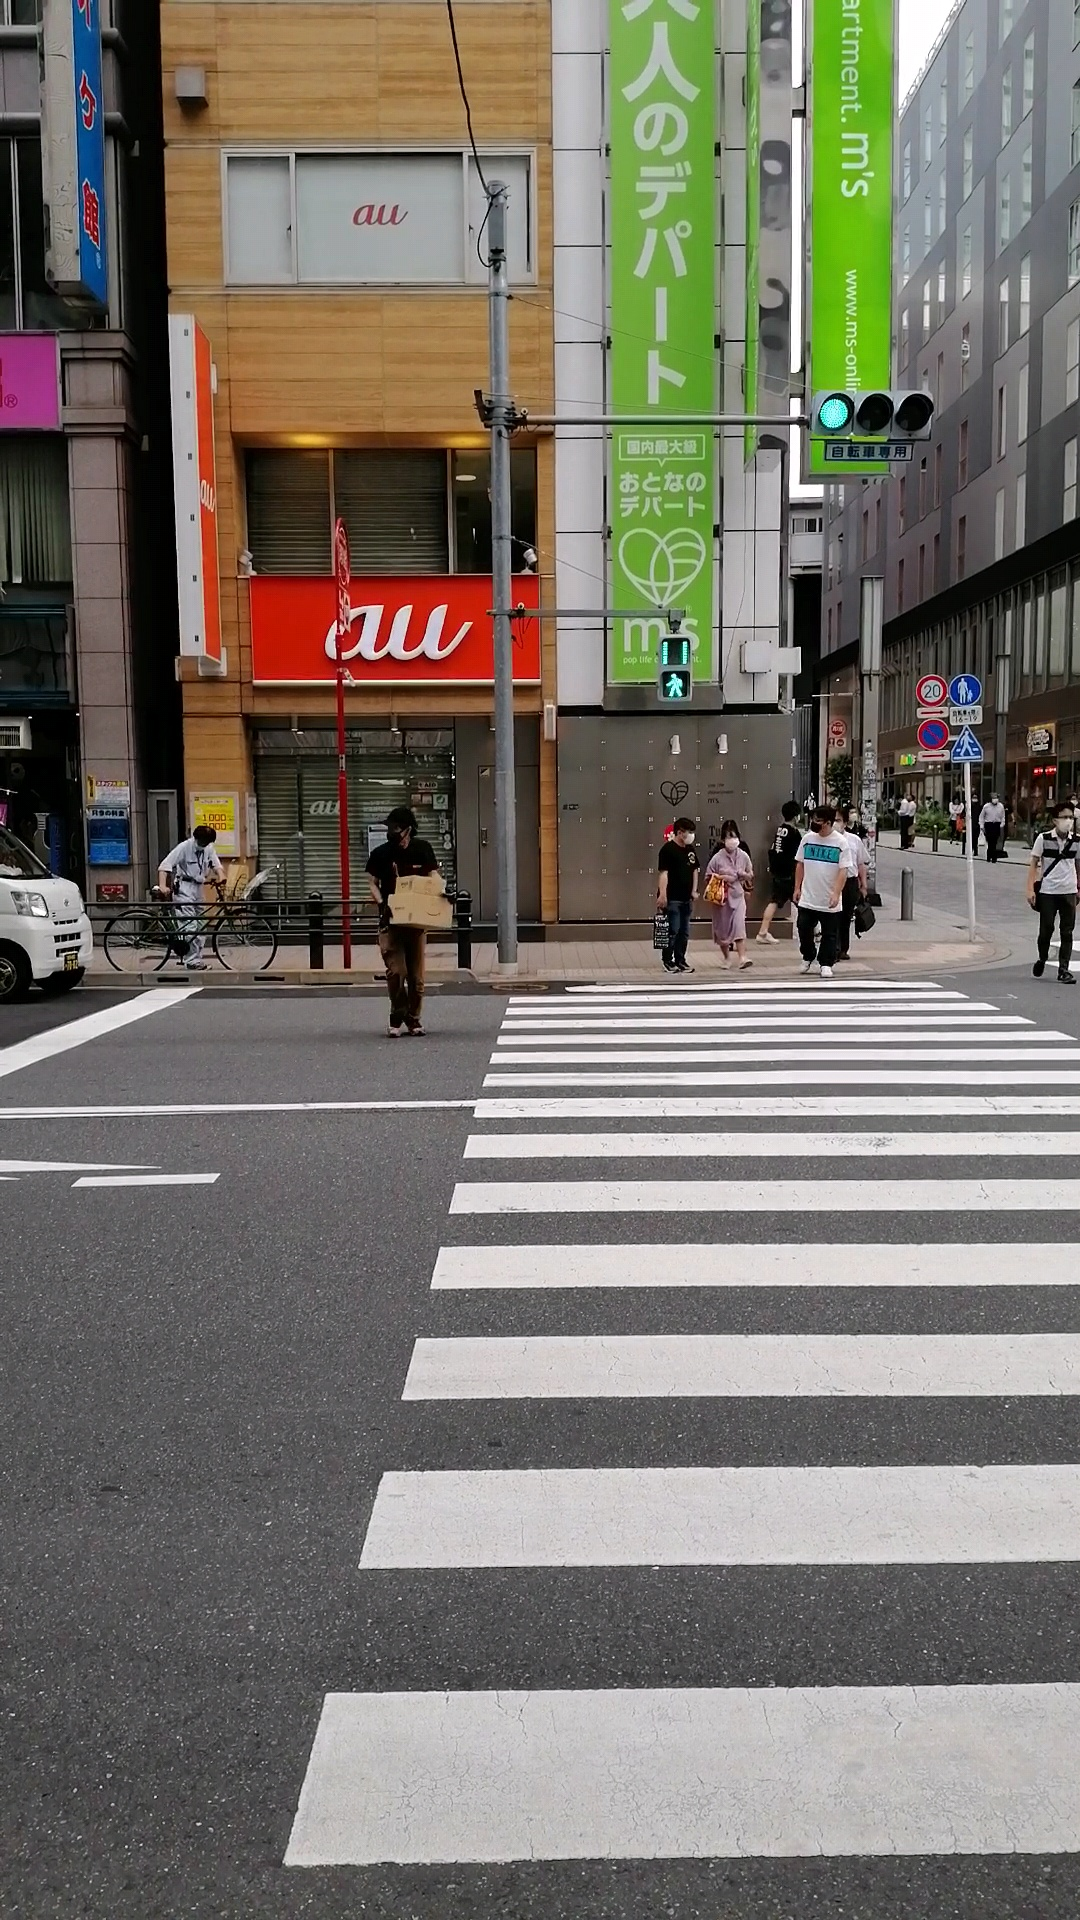green: (657, 633, 692, 702)
